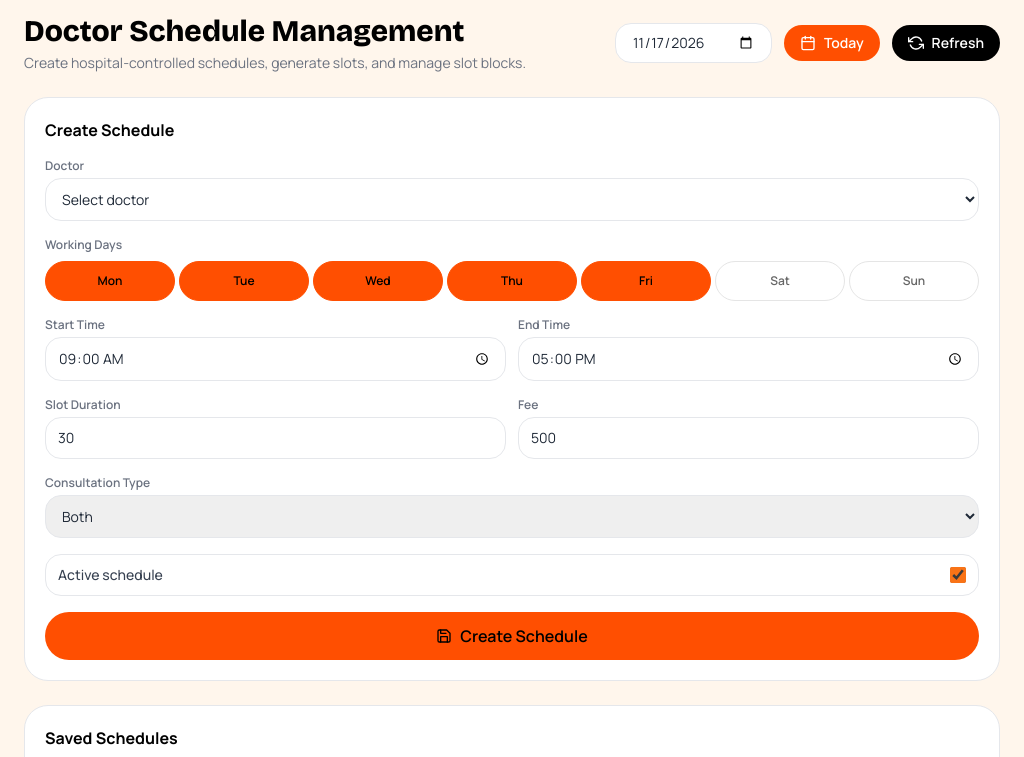
Scenario: create and update show the confirmed schedule while the calendar is still reloading
Later steps or results of the test are not shown.
Step 1. Select "Dr. Demo Doctor -" in the dropdown labelled "Doctor" → (512, 200), box top-left (45, 178), bottom-right (979, 221)
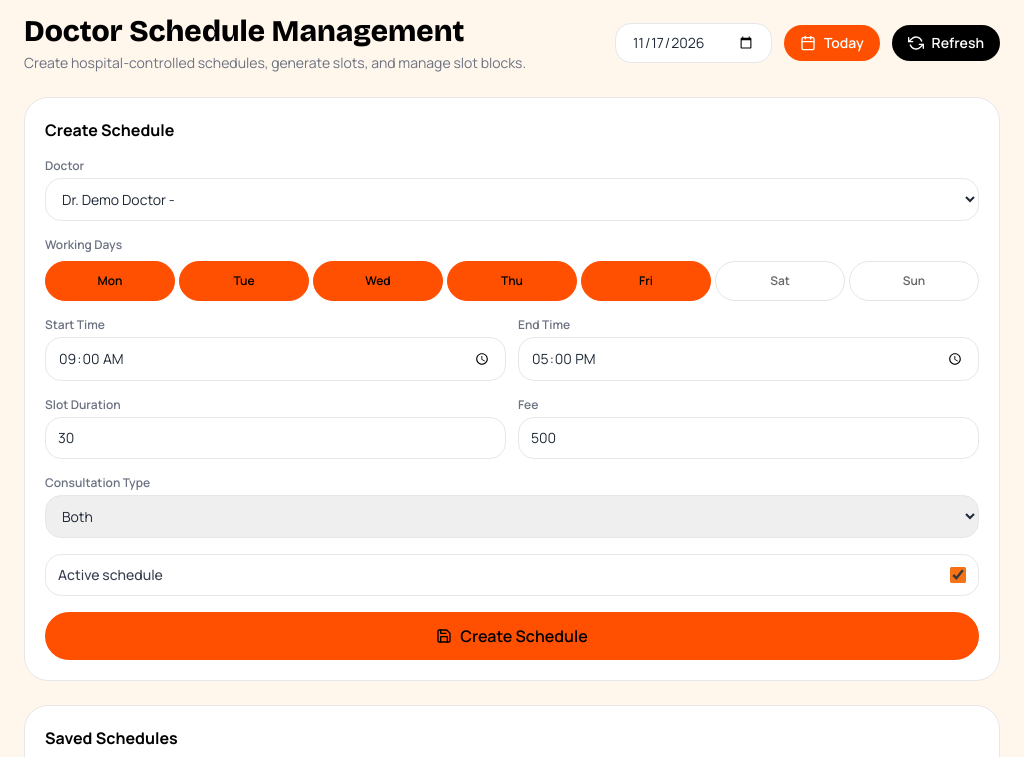
Step 2. Click the button "Create Schedule" → (512, 636), box top-left (45, 612), bottom-right (979, 660)
(page scrolled)
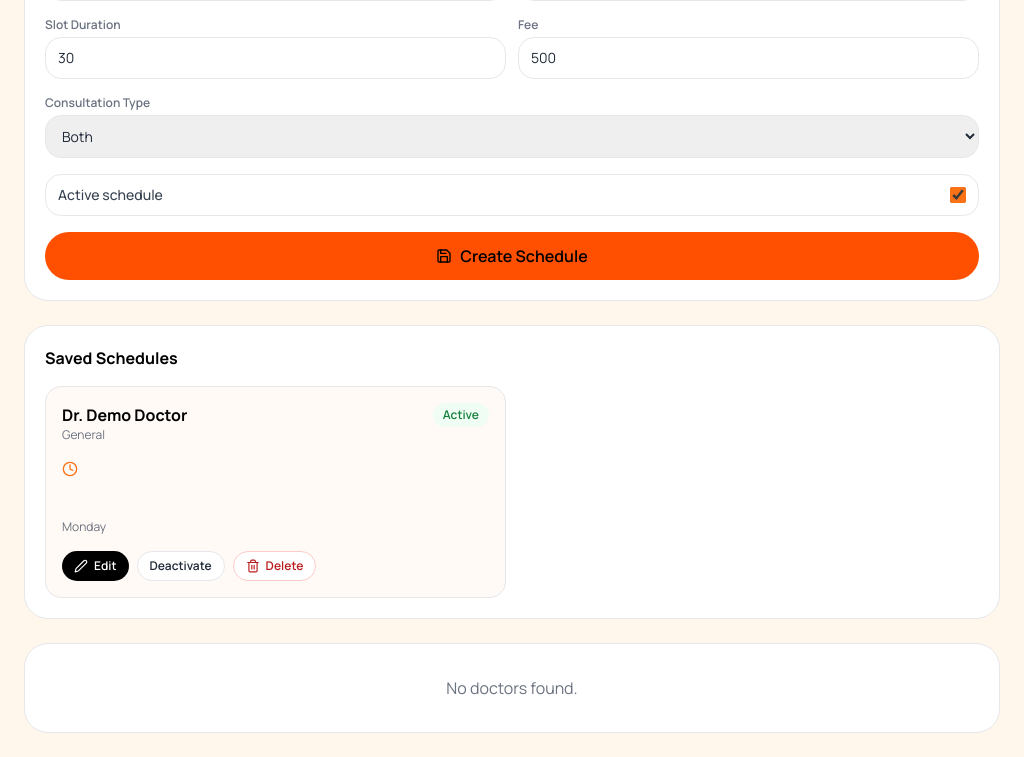
Expected: the button "Create Schedule" is enabled, top-left (45, 232), bottom-right (979, 280)
Now the text "09:00-17:00" is shown, box top-left (62, 459), bottom-right (164, 478)
Step 3. Click the button "Edit" → (95, 566), box top-left (62, 551), bottom-right (128, 581)
(page scrolled)
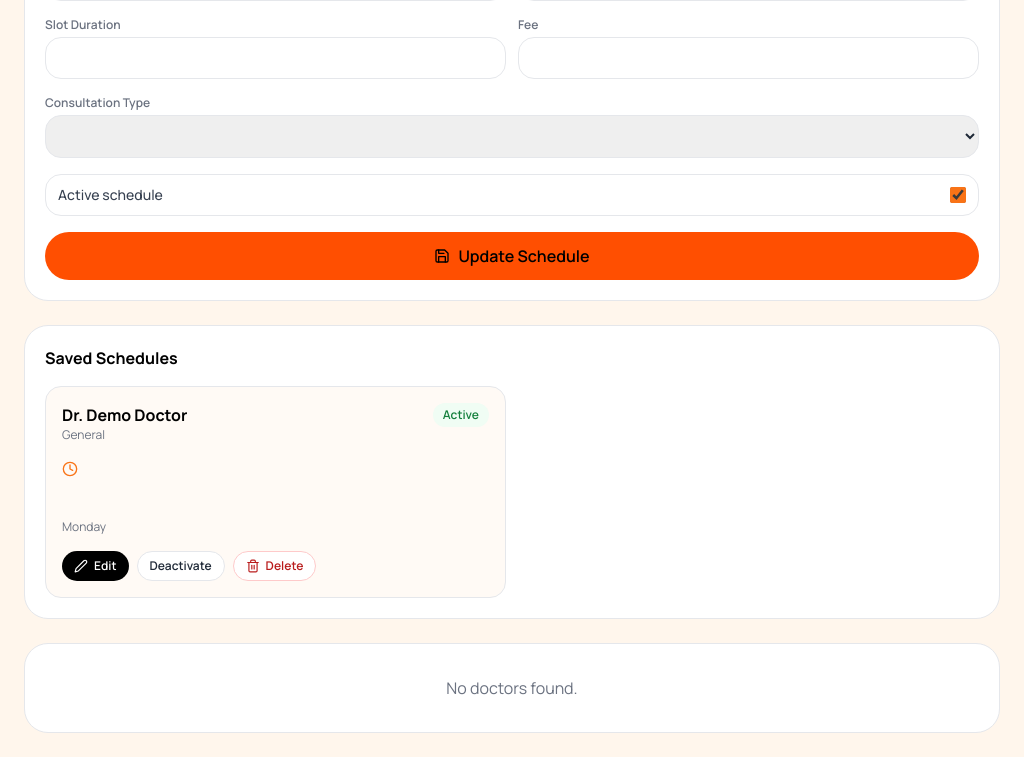
Step 4. Click the button "Update Schedule" → (512, 256), box top-left (45, 232), bottom-right (979, 280)
(page scrolled)
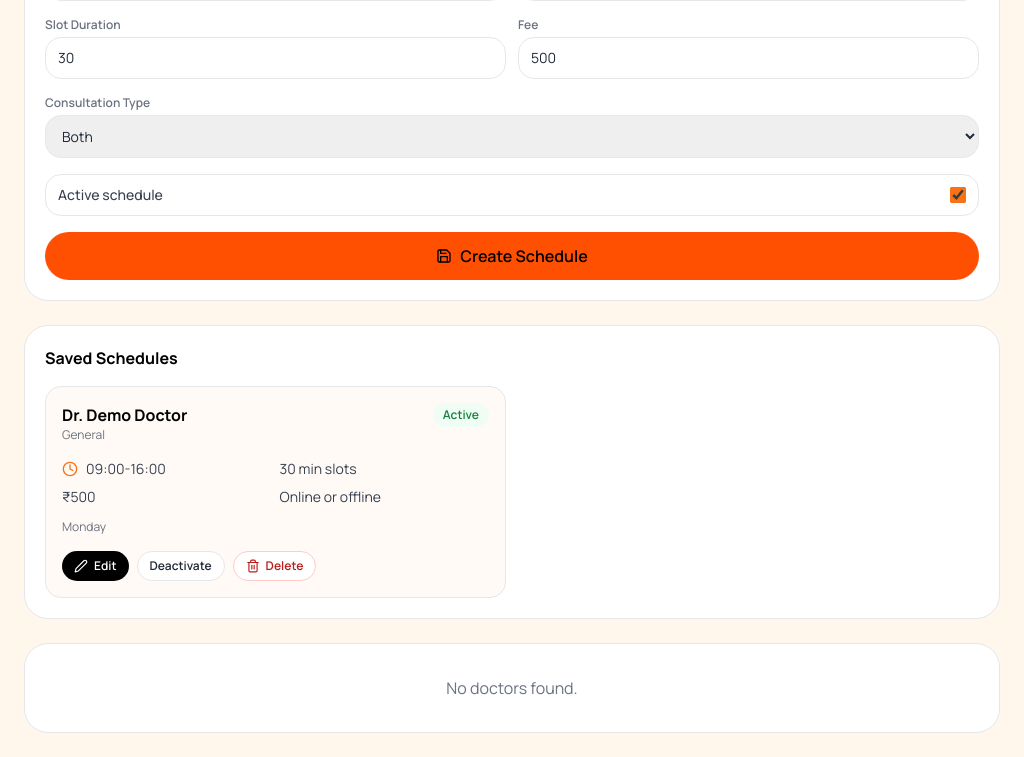
Now the text "09:00-16:00" is shown, box top-left (62, 459), bottom-right (166, 478)
Now the text "09:00-17:00" is gone
